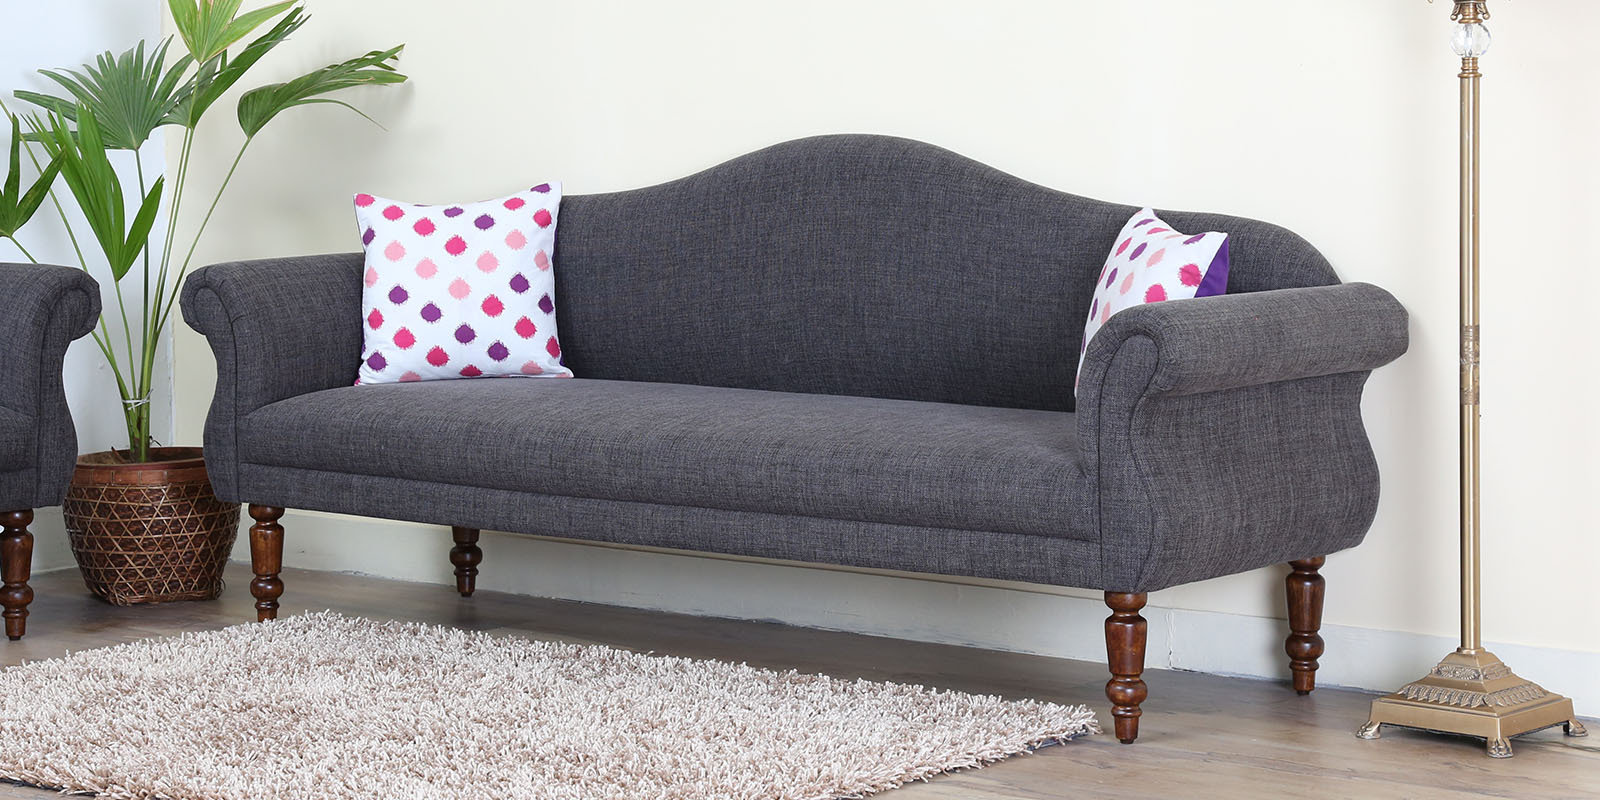Harleston Three Seater Sofa in Provincial Teak Finish by Amberville: (171, 121, 1429, 766), (1, 240, 122, 656)
